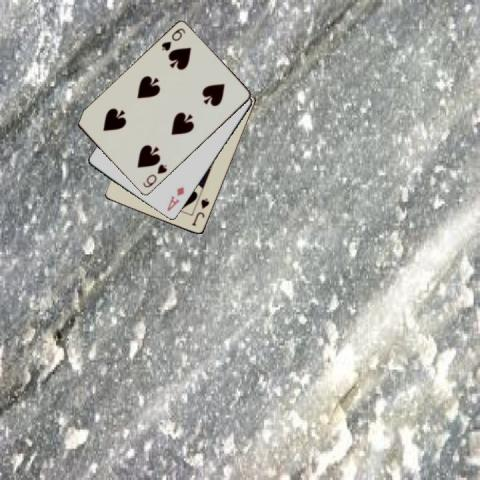6s: (140, 162, 169, 190), (158, 25, 186, 53)
Ad: (164, 184, 186, 213)
Js: (189, 196, 210, 228)
